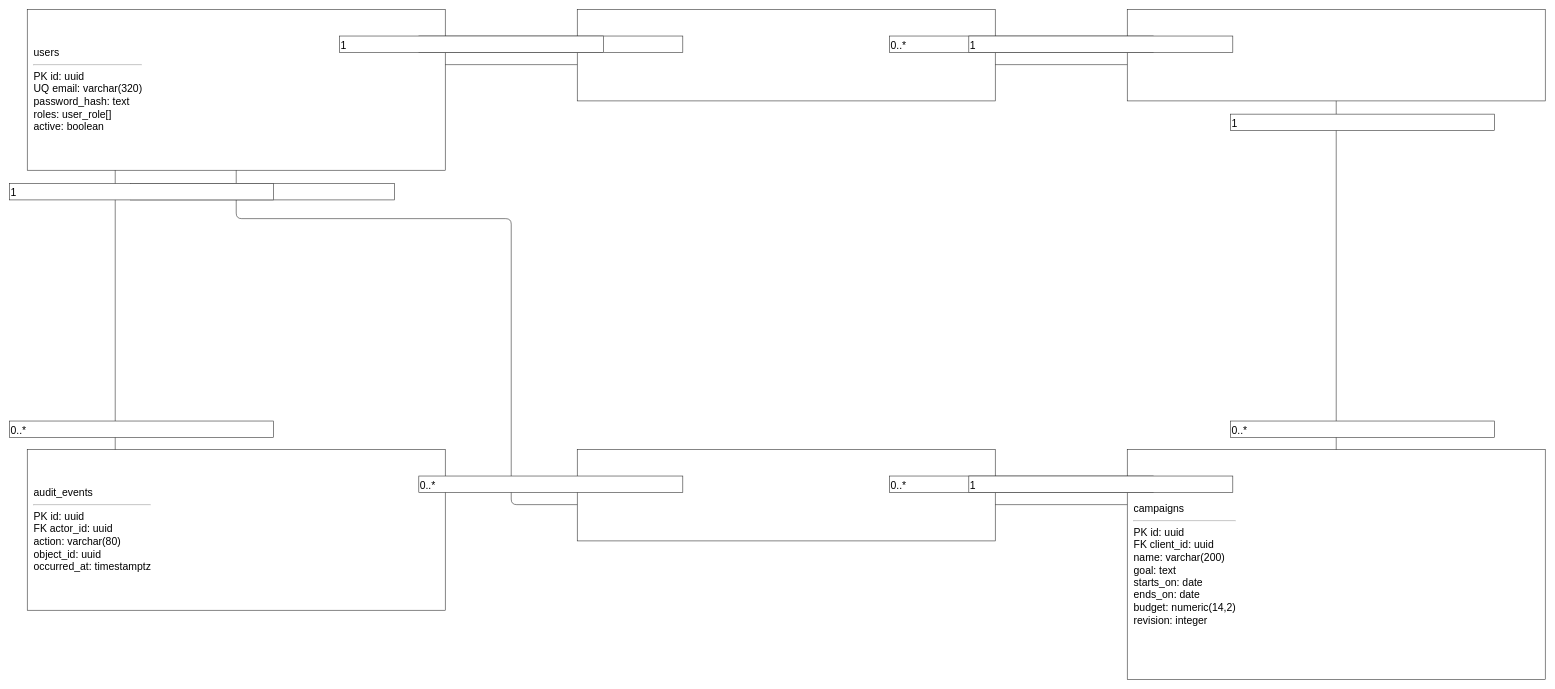
The diagram is 1555 pixels wide and 689 high, and some of its shapes have lost their labels. The shapes that lost their labels are listed below. From the top down, each one's centre as x and y in pixels, then its label:
point 786,55: client_access PK,FK user_id: uuid PK,FK client_id: uuid
point 1336,55: clients PK id: uuid name: varchar(200)
point 786,495: campaign_assignments PK,FK campaign_id: uuid PK,FK user_id: uuid
